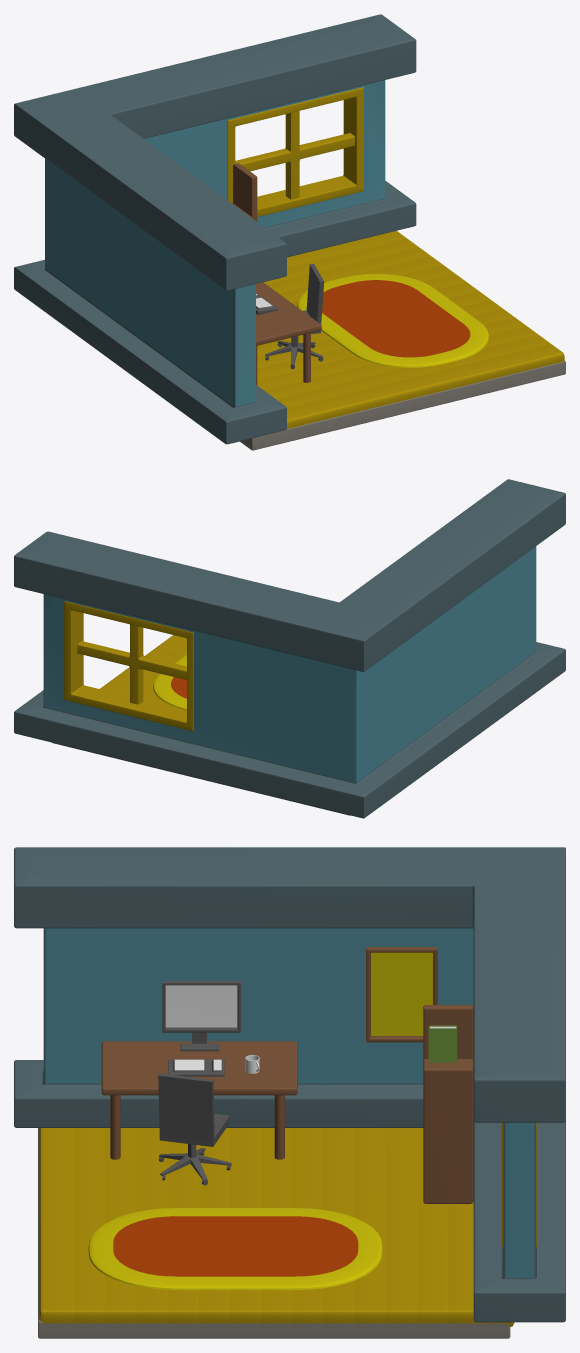
Rendered from Cube Room.fbx.
3 renders of one model, top to bottom at view 1: azimuth 30°, elevation 25°; view 2: azimuth 150°, elevation 25°; view 3: azimuth 270°, elevation 25°, orthographic. The views are drawn at different scales.
Parts seen in each view (by area): view 1: pCube1, Floorboard15, pCube10, Frame, Base, Separator, pCylinder5, Chair, Bookcase; view 2: pCube1, Frame, Separator, Floorboard15, pCube10; view 3: pCube1, Floorboard15, pCube10, pCylinder5, Bookcase, Base, Painting, Chair, Monitor, pCube12, Keyboard.
Boxes of the visible parts, x1,y1,x2,y2 form: pCube1: [14, 14, 416, 444]; Floorboard15: [257, 231, 564, 428]; pCube10: [297, 273, 489, 367]; Frame: [227, 87, 363, 216]; Base: [240, 360, 565, 450]; Separator: [235, 111, 354, 199]; pCylinder5: [256, 282, 321, 384]; Chair: [265, 264, 324, 369]; Bookcase: [232, 163, 257, 221]; pCube1: [14, 479, 565, 818]; Frame: [64, 601, 193, 731]; Separator: [77, 624, 186, 704]; Floorboard15: [100, 635, 186, 709]; pCube10: [153, 654, 186, 710]; pCube1: [14, 847, 565, 1322]; Floorboard15: [39, 1128, 514, 1326]; pCube10: [88, 1208, 382, 1290]; pCylinder5: [101, 1041, 297, 1159]; Bookcase: [423, 1005, 473, 1203]; Base: [38, 1128, 510, 1338]; Painting: [366, 947, 437, 1042]; Chair: [158, 1073, 231, 1185]; Monitor: [162, 981, 240, 1051]; pCube12: [428, 1025, 457, 1062]; Keyboard: [168, 1059, 224, 1076].
Size of the model in its own units: 28.06 by 15.2 by 28.06.
